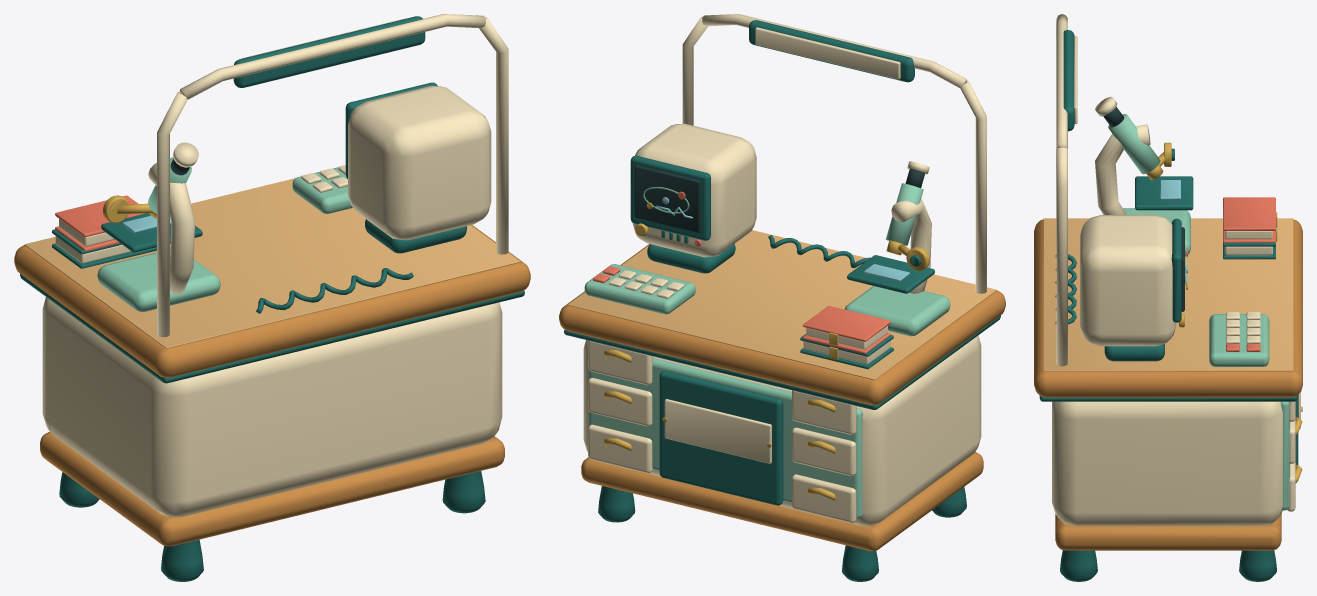
The model's file is ResearchBench.fbx.
3 renders of one model, left to right at view 1: azimuth 30°, elevation 25°; view 2: azimuth 150°, elevation 25°; view 3: azimuth 270°, elevation 25°, orthographic. The views are drawn at different scales.
Visible parts, largest first — view 1: ResearchBench_Visual; view 2: ResearchBench_Visual; view 3: ResearchBench_Visual.
Part boxes in pixels (x1,y1,x2,y2): ResearchBench_Visual: (14, 14, 530, 581); ResearchBench_Visual: (559, 14, 1005, 581); ResearchBench_Visual: (1034, 14, 1302, 581).
Size of the model in its own units: 1.7 by 2.2 by 1.2.
